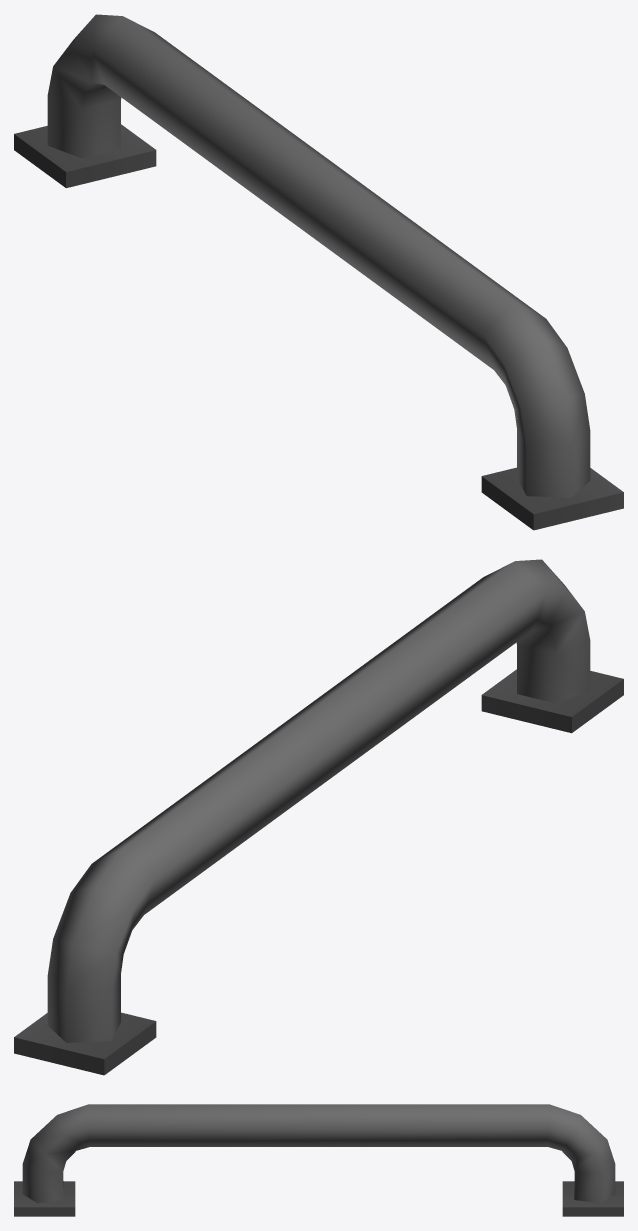
Rendered from Bollards_2_D.fbx.
3 views of the same model, one above another, from view 1: azimuth 30°, elevation 25°; view 2: azimuth 150°, elevation 25°; view 3: azimuth 270°, elevation 25° (orthographic). The views are drawn at different scales.
Visible parts, largest first — view 1: Bollards_2_D; view 2: Bollards_2_D; view 3: Bollards_2_D.
Part boxes in pixels (<box>): Bollards_2_D: <box>14,14,623,530</box>; Bollards_2_D: <box>14,559,623,1075</box>; Bollards_2_D: <box>14,1104,623,1216</box>.
Bounding box in the file's own units: 15.3 × 27.46 × 152.
